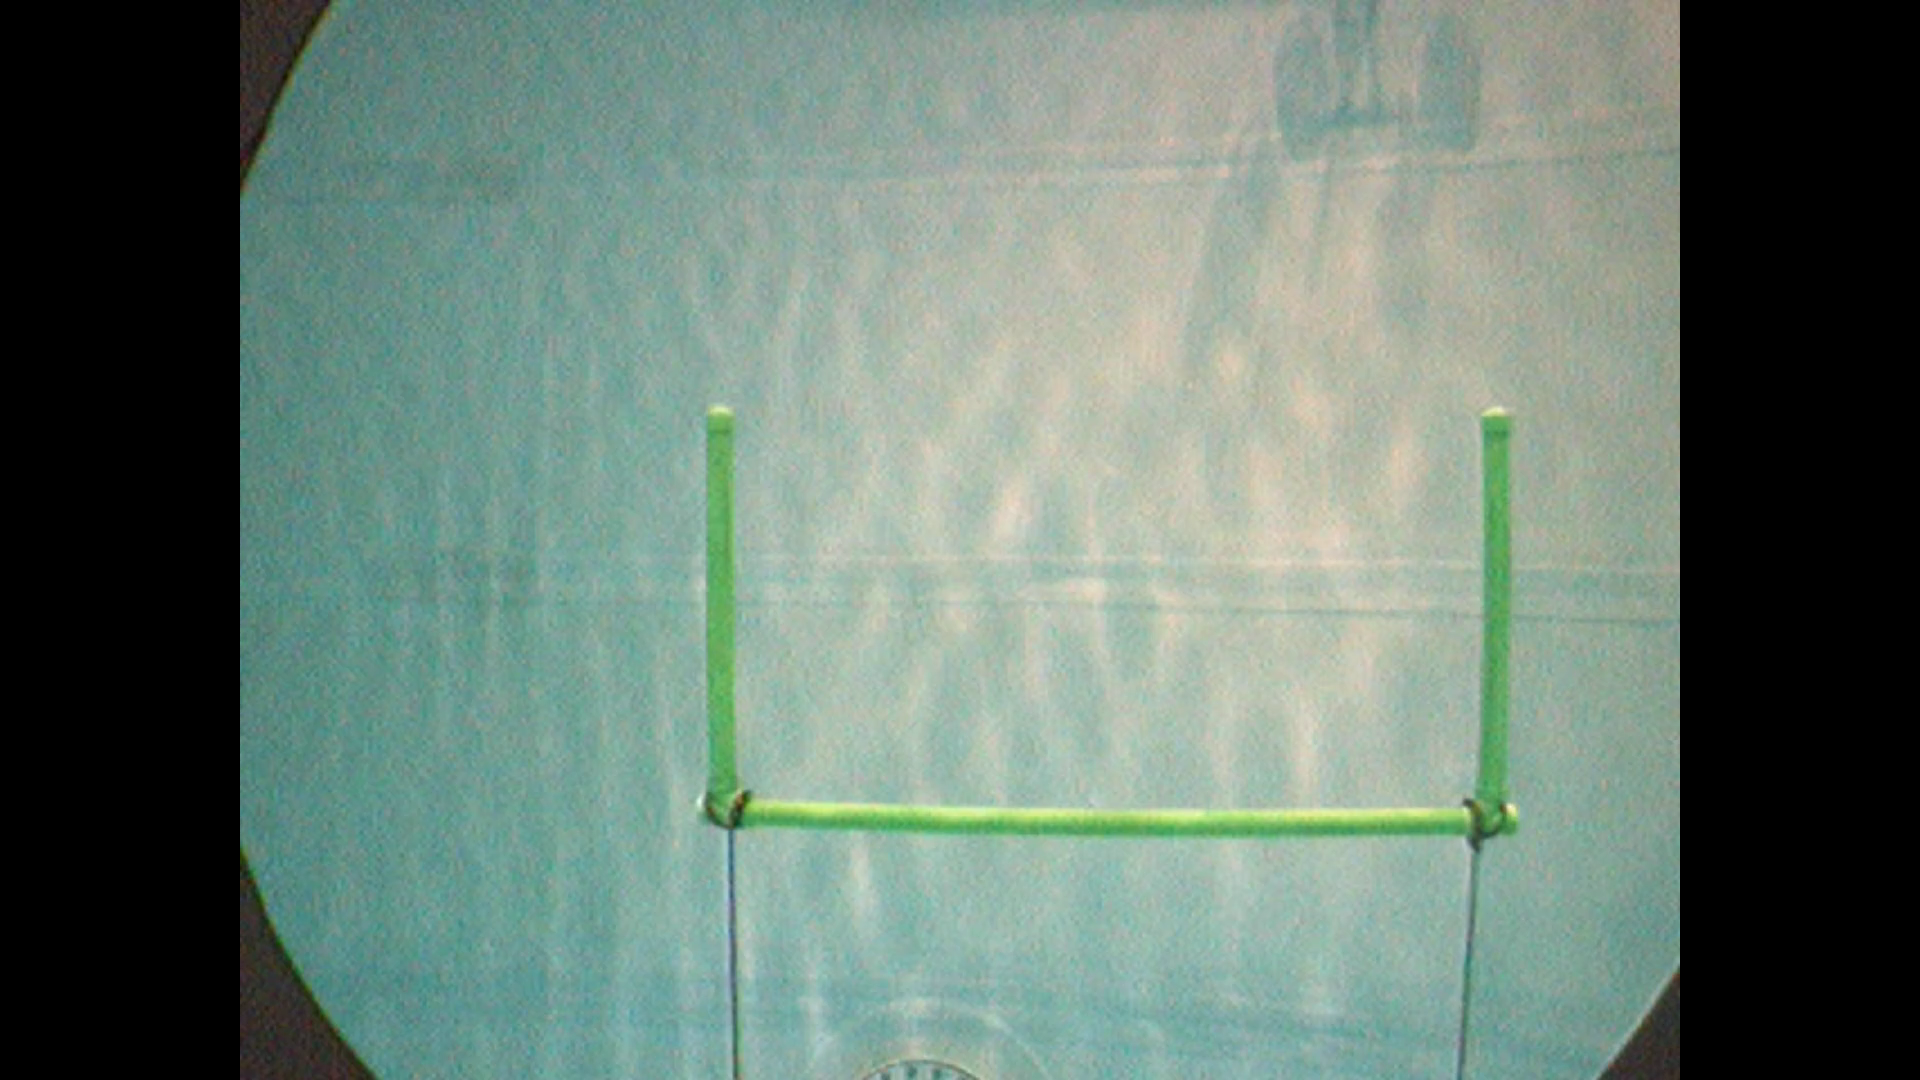gate: (688, 401, 1531, 861)
